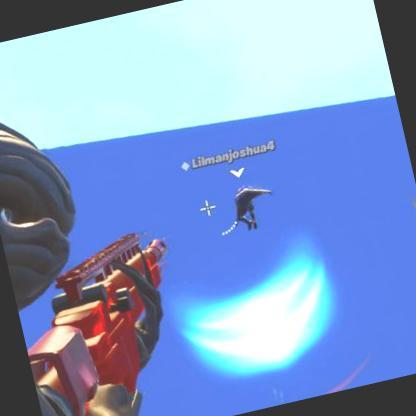person: (229, 182, 264, 232)
